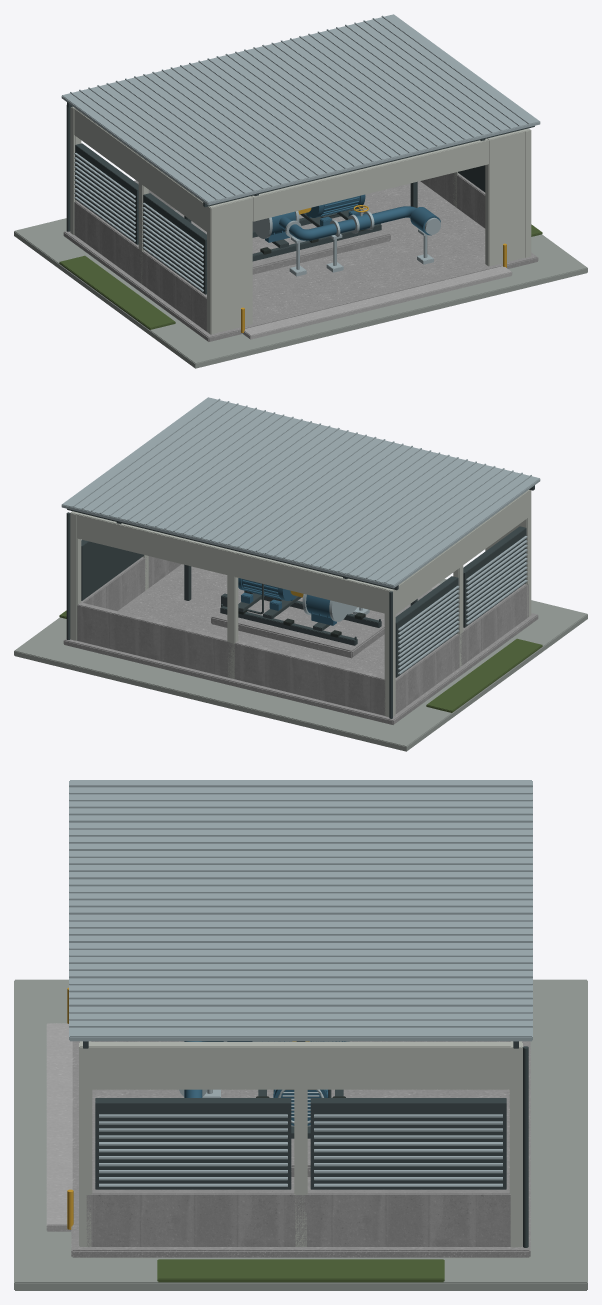
File: blower-unit.glb
The picture shows the model from 3 angles, top to bottom: view 1: azimuth 30°, elevation 25°; view 2: azimuth 150°, elevation 25°; view 3: azimuth 270°, elevation 25°; orthographic projection. The views are drawn at different scales.
Visible parts, largest first — view 1: BUILDING_RoofSkin, BUILDING_BaseSlab, BUILDING_RoofRibs, SITE_Hardscape, BUILDING_FrontPiers, BUILDING_SideSill, BUILDING_EntranceLintel, BUILDING_LouverFrame, BUILDING_LouverSlats, BUILDING_SideHeader, ACCESS_EntranceApron, BUILDING_SidePiers (+7 smaller); view 2: BUILDING_RoofSkin, SITE_Hardscape, BUILDING_RoofRibs, BUILDING_RearSill, BUILDING_BaseSlab, BUILDING_RearHeader, BUILDING_SideSill, BUILDING_LouverFrame, BUILDING_LouverSlats, BUILDING_SideHeader, MECH_ConcreteFoundation, BUILDING_SidePiers (+7 smaller); view 3: BUILDING_RoofSkin, BUILDING_RoofRibs, SITE_Hardscape, BUILDING_LouverFrame, BUILDING_SideSill, BUILDING_SideHeader, BUILDING_LouverSlats, BUILDING_BaseSlab, SITE_GreenStrip, ACCESS_EntranceApron, BUILDING_SidePiers, BUILDING_RearColumns (+2 smaller).
Part boxes in pixels (x1,y1,x2,y2): BUILDING_RoofSkin: (61, 14, 540, 205); BUILDING_BaseSlab: (63, 181, 538, 341); BUILDING_RoofRibs: (70, 15, 529, 200); SITE_Hardscape: (14, 218, 587, 368); BUILDING_FrontPiers: (212, 129, 526, 332); BUILDING_SideSill: (74, 173, 485, 331); BUILDING_EntranceLintel: (251, 138, 488, 221); BUILDING_LouverFrame: (75, 143, 485, 294); BUILDING_LouverSlats: (74, 153, 203, 291); BUILDING_SideHeader: (74, 108, 208, 232); ACCESS_EntranceApron: (242, 266, 512, 339); BUILDING_SidePiers: (75, 128, 531, 334); BUILDING_RoofSkin: (61, 397, 540, 588); SITE_Hardscape: (14, 579, 587, 751); BUILDING_RoofRibs: (72, 398, 531, 583); BUILDING_RearSill: (77, 602, 385, 715); BUILDING_BaseSlab: (63, 564, 538, 724); BUILDING_RearHeader: (76, 513, 386, 613); BUILDING_SideSill: (81, 556, 528, 713); BUILDING_LouverFrame: (81, 526, 526, 677); BUILDING_LouverSlats: (398, 536, 527, 674); BUILDING_SideHeader: (395, 490, 528, 614); MECH_ConcreteFoundation: (211, 596, 384, 658); BUILDING_SidePiers: (70, 489, 531, 716); BUILDING_RoofSkin: (69, 780, 532, 1041); BUILDING_RoofRibs: (69, 784, 532, 1027); SITE_Hardscape: (14, 979, 587, 1290); BUILDING_LouverFrame: (95, 1098, 506, 1189); BUILDING_SideSill: (86, 1189, 510, 1246); BUILDING_SideHeader: (86, 1042, 512, 1089); BUILDING_LouverSlats: (99, 1114, 502, 1186); BUILDING_BaseSlab: (71, 1041, 530, 1257); SITE_GreenStrip: (157, 1259, 444, 1282); ACCESS_EntranceApron: (46, 1023, 72, 1231); BUILDING_SidePiers: (79, 1042, 522, 1246); BUILDING_RearColumns: (510, 1041, 521, 1247).
Bounding box in the file's own units: 15 × 5.38 × 12.
Materials: 11 (3 with a texture image).
